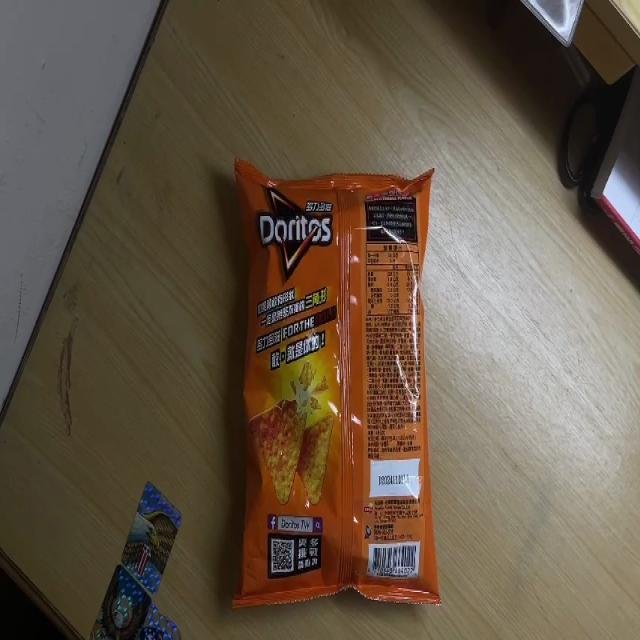Doritos: (235, 153, 439, 607)
